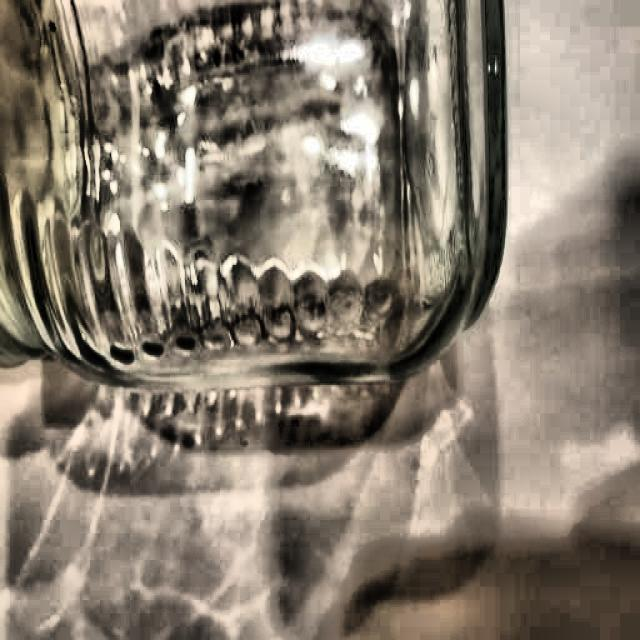glass: (0, 0, 508, 387)
